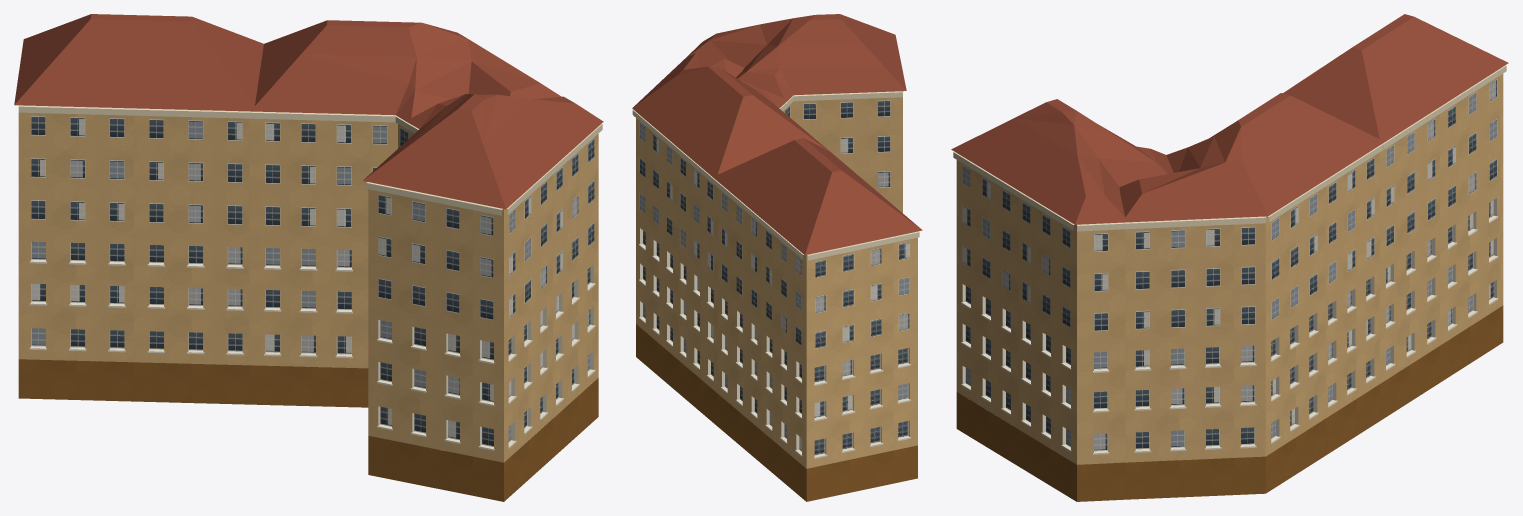
File: z2b_roent_west.glb
The picture shows the model from 3 angles, left to right: view 1: azimuth 30°, elevation 25°; view 2: azimuth 150°, elevation 25°; view 3: azimuth 270°, elevation 25°; orthographic projection. The views are drawn at different scales.
Visible parts, largest first — view 1: z2b_roent_west; view 2: z2b_roent_west; view 3: z2b_roent_west.
Part boxes in pixels (x1=…): z2b_roent_west: x1=14, y1=14, x2=603, y2=501; z2b_roent_west: x1=632, y1=14, x2=922, y2=501; z2b_roent_west: x1=951, y1=14, x2=1508, y2=501.
Size of the model in its own units: 34.02 by 26.94 by 40.86.
Materials: 3 (3 with a texture image).
